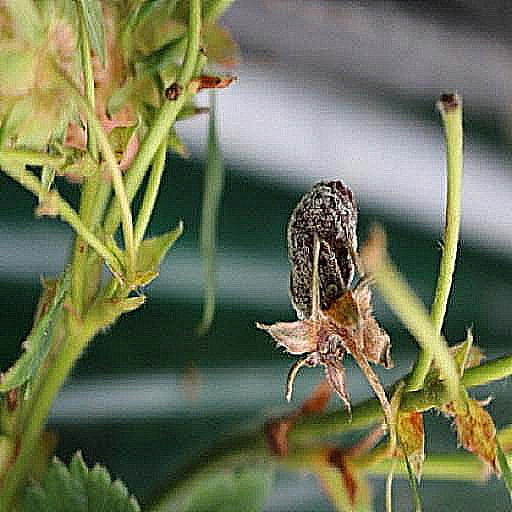Gray Mold: (256, 100, 393, 333)
